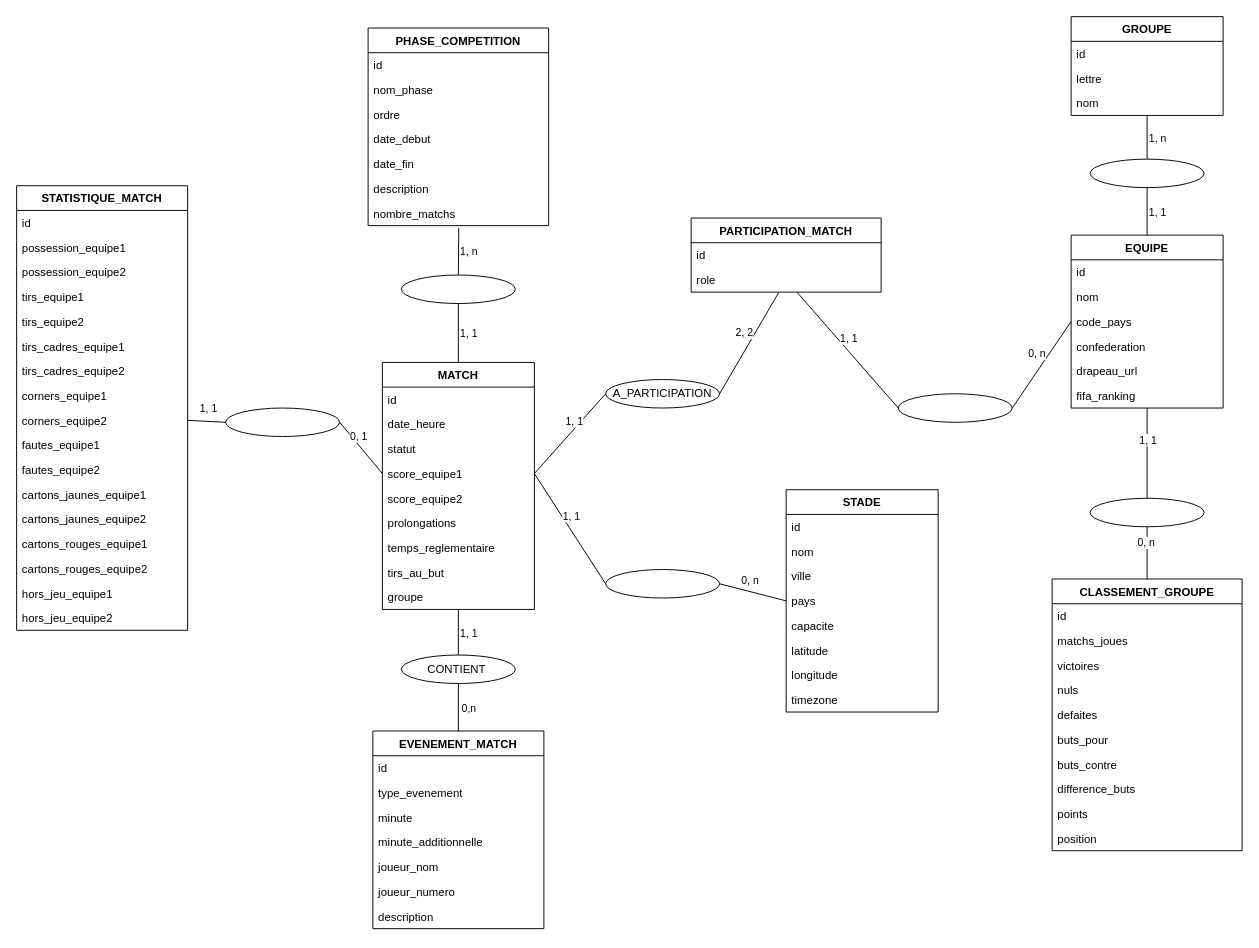
Some shapes in this 1259 by 948 pixel diagram are drawn without their labels. Here are the shapes that lost their labels. From the top down, the centre of each, then its label:
the point at 1146,173: COMPOSE
the point at 457,289: APPARTIENT
the point at 282,422: A_STATISTIQUES
the point at 954,407: PARTICIPE
the point at 1146,512: CONCERNE
the point at 662,583: SE_DEROULE
